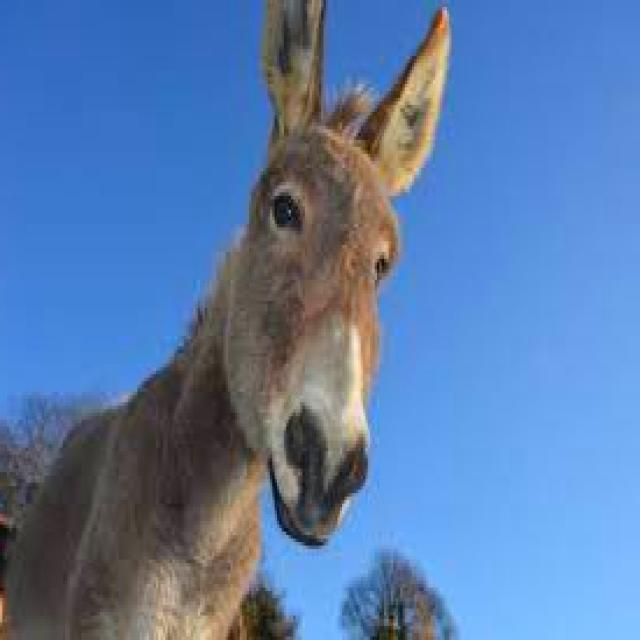donkey: (9, 0, 451, 637)
